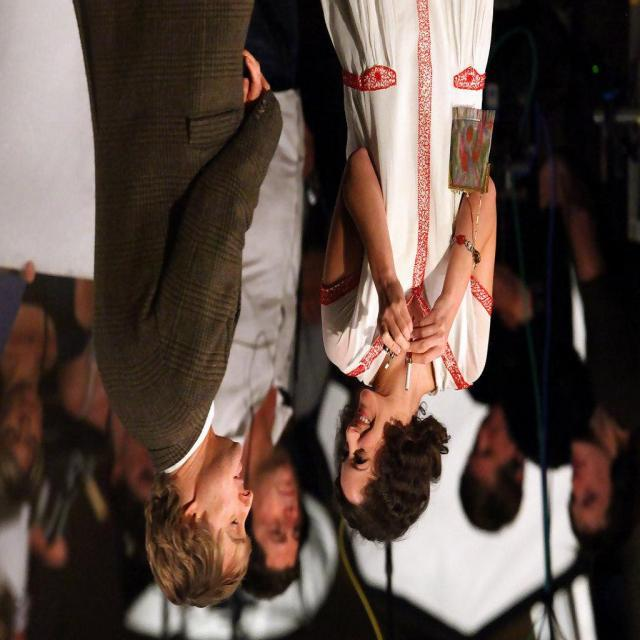cigarette: (397, 339, 422, 408)
